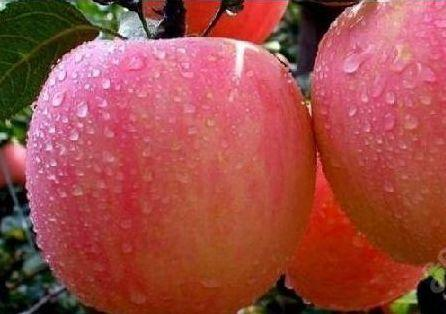apple: (25, 35, 309, 306), (276, 0, 423, 301)
